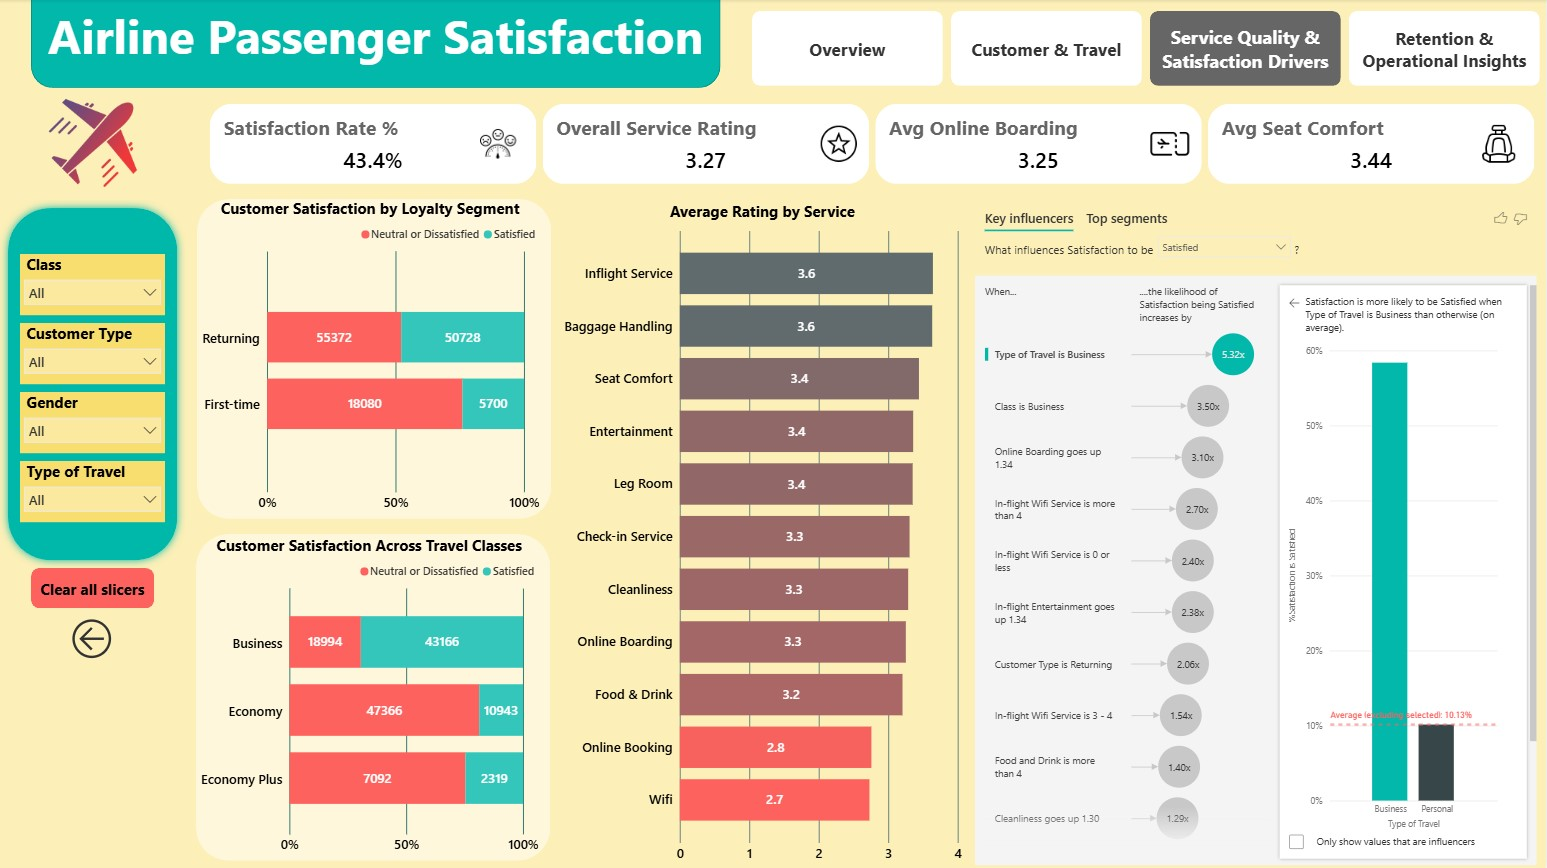

This screenshot's page, from the dashboard's own definition file:
{"tool":"powerbi","page":{"name":"Service Quality & Satisfaction Drivers","canvas":[1920,1080],"ordinal":2},"visuals":[{"type":"shape","box":[38.2,0,855.8,110.5],"z":0,"group":"g2"},{"type":"shape","box":[244.3,248,440,397.3],"z":0,"group":"g4"},{"type":"group","id":"g1","title":"Group 3","box":[0,248.9,230.5,575.6],"z":0},{"type":"shape","box":[0,248.9,230,457.1],"z":0,"group":"g5"},{"type":"shape","box":[243.6,663.8,439.9,405.7],"z":0,"group":"g3"},{"type":"textbox","box":[38.2,0.3,855.8,109.1],"z":1000,"group":"g2"},{"type":"cardVisual","fields":{"Data":[" Measures.Satisfaction Rate %"," Measures.Overall Service Rating"," Measures.Avg Online Boarding"," Measures.Avg Seat Comfort"]},"box":[255.9,125.9,1657.1,109.1],"z":1000},{"type":"group","id":"g2","title":"Group 1","box":[38.2,0,854.8,110.6],"z":2000},{"type":"pageNavigator","box":[933.8,14.5,978.6,93.5],"z":3000},{"type":"barChart","title":"Average Rating by Service","fields":{"Category":["Service Metrics.Service"],"Y":["Service Metrics.Selected Service Rating"]},"box":[694.2,250.2,505,830.2],"z":4000},{"type":"keyDriversVisual","fields":{"Target":["airline_passenger_satisfaction.Satisfaction"],"ExplainBy":["airline_passenger_satisfaction.Online Boarding","airline_passenger_satisfaction.Seat Comfort","airline_passenger_satisfaction.In-flight Entertainment","airline_passenger_satisfaction.Food and Drink","airline_passenger_satisfaction.In-flight Wifi Service","airline_passenger_satisfaction.Cleanliness","airline_passenger_satisfaction.Class","airline_passenger_satisfaction.Customer Type","airline_passenger_satisfaction.Type of Travel"]},"box":[1205.5,248.2,706.7,831.8],"z":5000},{"type":"hundredPercentStackedBarChart","title":"Customer Satisfaction by Loyalty Segment","fields":{"Category":["airline_passenger_satisfaction.Customer Type"],"Series":["airline_passenger_satisfaction.Satisfaction"],"Y":[" Measures.Total Passengers"]},"box":[244.3,247.1,430,399.1],"z":6000,"group":"g4"},{"type":"group","id":"g3","title":"Group 4","box":[243.6,663.8,439.9,406.2],"z":6000},{"type":"hundredPercentStackedBarChart","title":"Customer Satisfaction Across Travel Classes","fields":{"Category":["airline_passenger_satisfaction.Class"],"Series":["airline_passenger_satisfaction.Satisfaction"],"Y":[" Measures.Total Passengers"]},"box":[243.6,664.5,430,405.5],"z":6000,"group":"g3"},{"type":"group","id":"g4","title":"Group 5","box":[244.3,247.1,440,398.6],"z":7000},{"type":"slicer","fields":{"Values":["airline_passenger_satisfaction.Class"]},"box":[24.8,315.7,180.4,75.5],"z":7000,"group":"g5"},{"type":"actionButton","box":[38.6,706,152.9,50],"z":7000,"group":"g1"},{"type":"image","box":[52.9,117.1,124.3,124.3],"z":8000},{"type":"image","box":[588.6,150,58.6,58.6],"z":9000},{"type":"group","id":"g5","title":"Group 2","box":[0,248.9,230,457.1],"z":9000,"group":"g1"},{"type":"slicer","fields":{"Values":["airline_passenger_satisfaction.Customer Type"]},"box":[24.8,401.5,180.4,75.5],"z":9000,"group":"g5"},{"type":"image","box":[1831.4,150,58.6,58.6],"z":10000},{"type":"slicer","fields":{"Values":["airline_passenger_satisfaction.Gender"]},"box":[24.8,487.2,180.4,75.5],"z":10000,"group":"g5"},{"type":"actionButton","box":[82.9,763.2,64.3,61.4],"z":10000,"group":"g1"},{"type":"image","box":[1422.9,150,58.6,58.6],"z":10001},{"type":"image","box":[1011.4,150,58.6,58.6],"z":10002},{"type":"slicer","fields":{"Values":["airline_passenger_satisfaction.Type of Travel"]},"box":[24.8,573,180.4,75.5],"z":11000,"group":"g5"}]}

Visuals, with their boxes in screenshot pixels (x1, y1, x2, y2), scaled from the page's 1920x1080 canvas onto the 1547x868 screenshot:
shape: 31,0,720,89
shape: 197,199,551,519
"Group 3" group: 0,200,186,663
shape: 0,200,185,567
shape: 196,533,551,860
textbox: 31,0,720,88
cardVisual -  Measures.Satisfaction Rate % x  Measures.Overall Service Rating: 206,101,1541,189
"Group 1" group: 31,0,720,89
pageNavigator: 752,12,1541,87
"Average Rating by Service" barChart: 559,201,966,867
keyDriversVisual - airline_passenger_satisfaction.Satisfaction x airline_passenger_satisfaction.Online Boarding: 971,199,1541,867
"Customer Satisfaction by Loyalty Segment" hundredPercentStackedBarChart: 197,199,543,519
"Group 4" group: 196,533,551,860
"Customer Satisfaction Across Travel Classes" hundredPercentStackedBarChart: 196,534,543,860
"Group 5" group: 197,199,551,519
slicer - airline_passenger_satisfaction.Class: 20,254,165,314
actionButton: 31,567,154,608
image: 43,94,143,194
image: 474,121,521,168
"Group 2" group: 0,200,185,567
slicer - airline_passenger_satisfaction.Customer Type: 20,323,165,383
image: 1476,121,1523,168
slicer - airline_passenger_satisfaction.Gender: 20,392,165,452
actionButton: 67,613,119,663
image: 1146,121,1194,168
image: 815,121,862,168
slicer - airline_passenger_satisfaction.Type of Travel: 20,461,165,521
